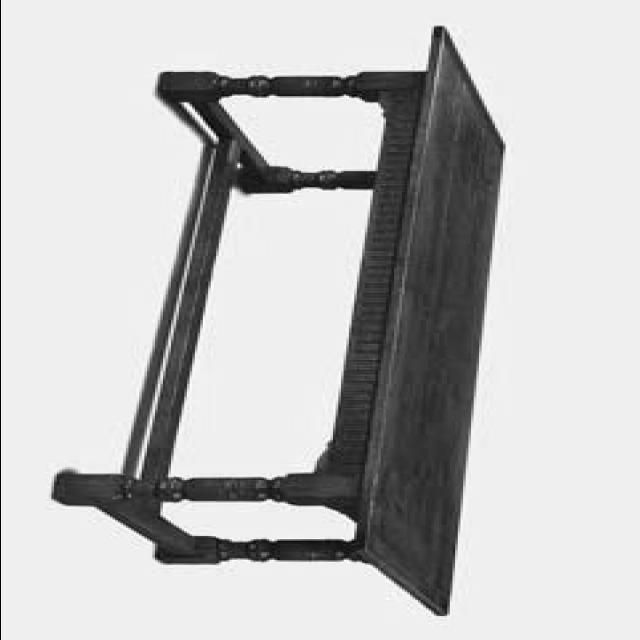table: (49, 25, 510, 618)
